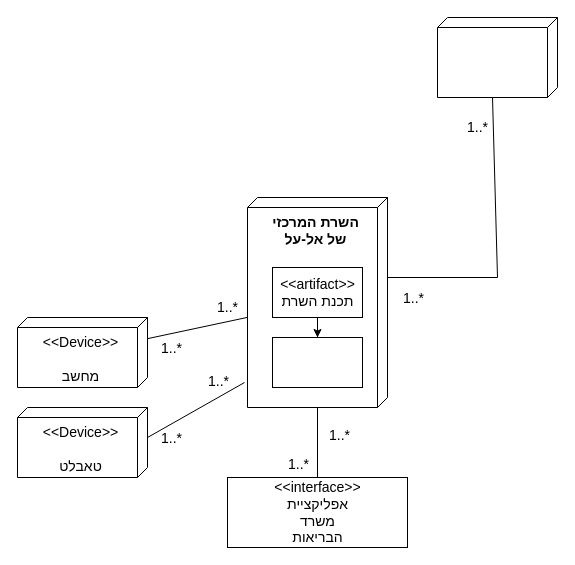
Some shapes in this 575 by 565 pixel diagram are drawn without their labels. Here are the shapes that lost their labels. From the top down, the centre of each, then its label:
the point at 497,57: <<Device>> סורק ייעודי
the point at 317,362: <<artifact>> מסד הנתונים
